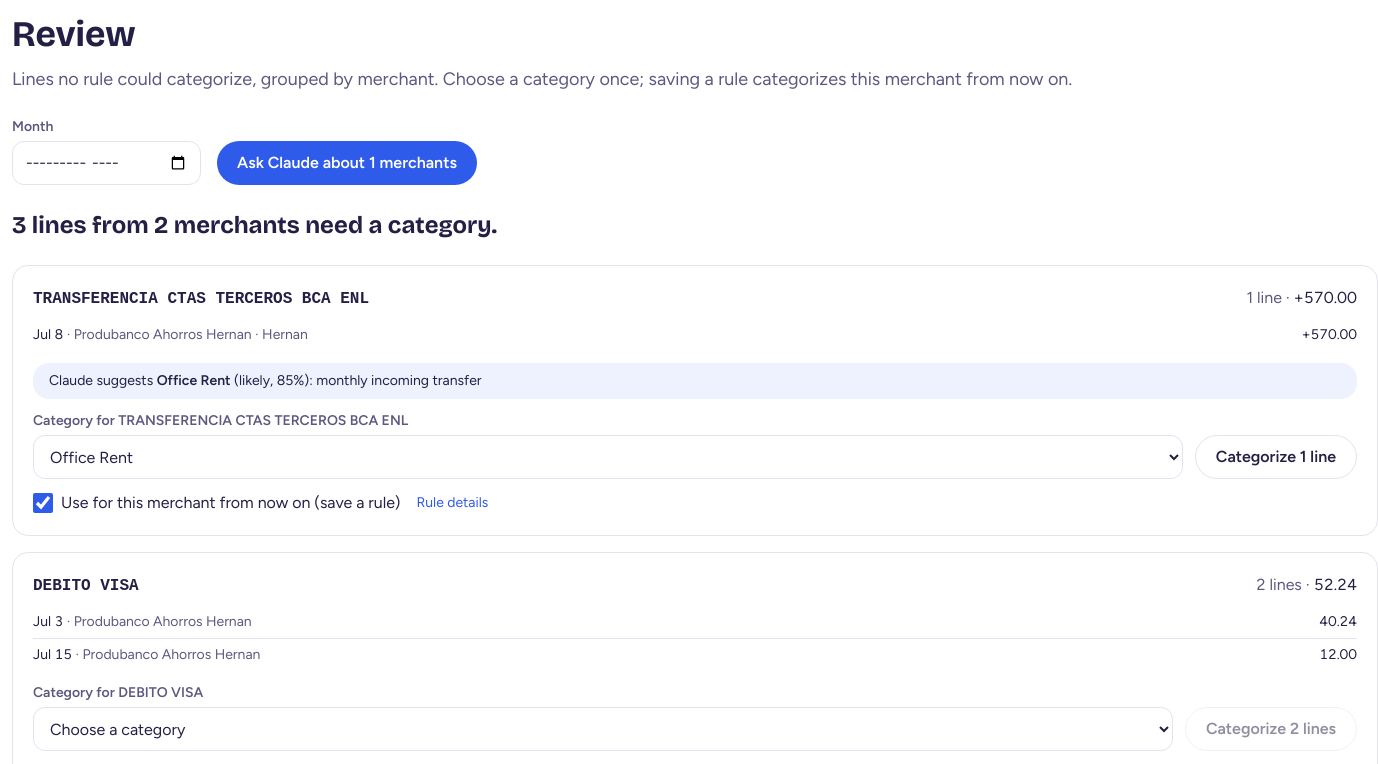
Test: Review › resolves a merchant with Claude's suggestion and saves a rule
This screenshot has width=1378, height=764.
Check: the text "3 lines from 2 merchants need a category." is shown, box [12,211,497,239]
Check: the list item "TRANSFERENCIA CTAS TERCEROS BCA ENL" shows "Claude suggests Office Rent (likely, 85%)", box [12,265,1377,536]
Click the button "Categorize 1 line": (1276, 457) [1195,435,1357,479]
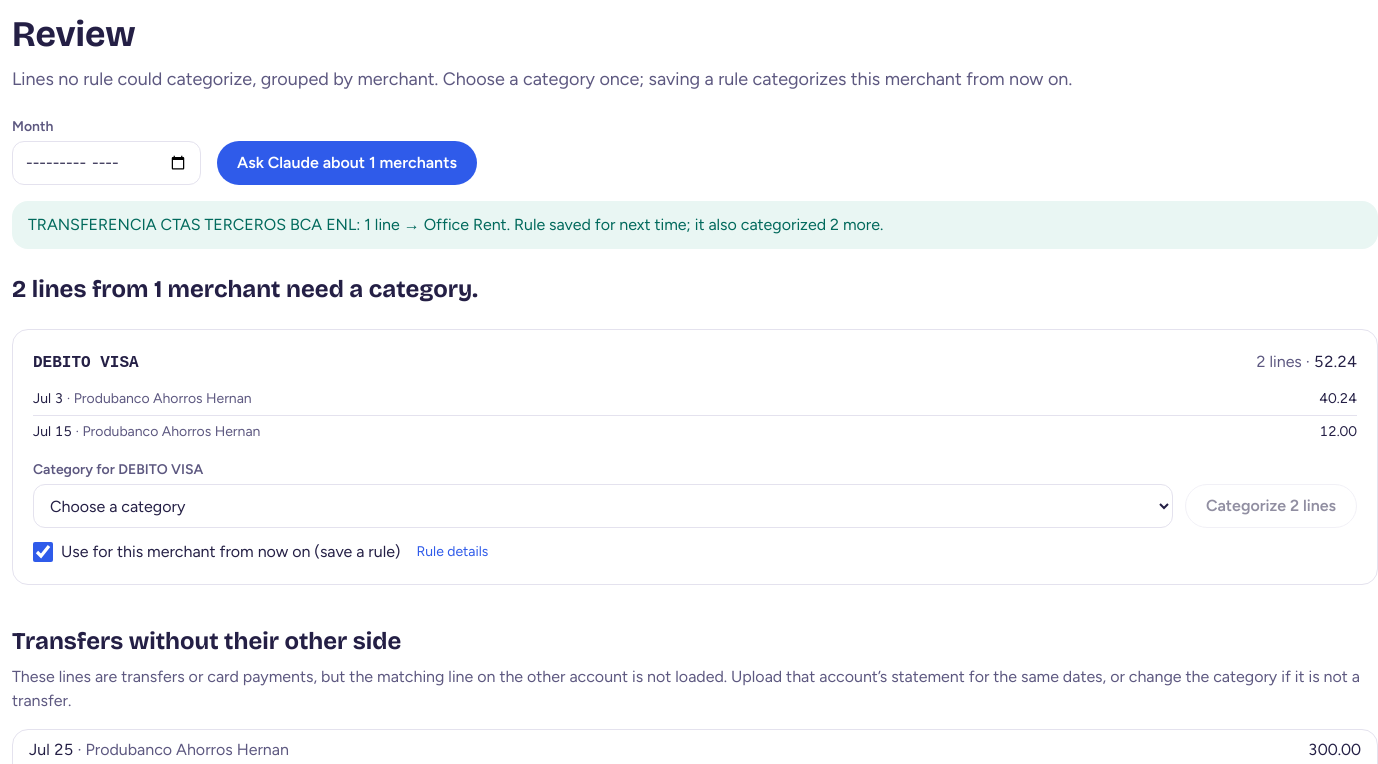
Check: the text "Rule saved for next time; it also categorized 2 more." is shown, box [28,215,883,234]
Check: the text "2 lines from 1 merchant need a category." is shown, box [12,275,478,303]
